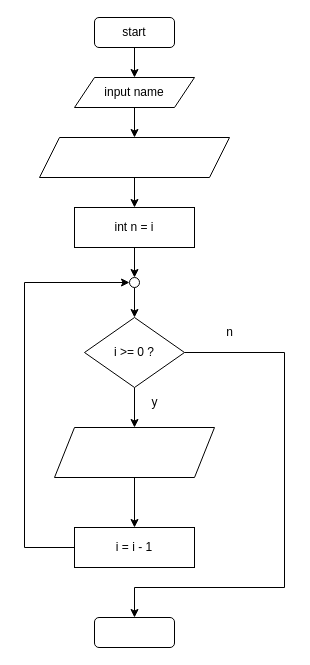
Image size: 310x665. Some labels were removed from this diagram. Each missing label, with the box of its shape:
end: (94, 616, 174, 648)
กำหนดตัวแปรมารับค่า strlen int i = strlen(name): (38, 136, 230, 178)
แสดงค่า char ที่ name: (54, 426, 214, 478)
